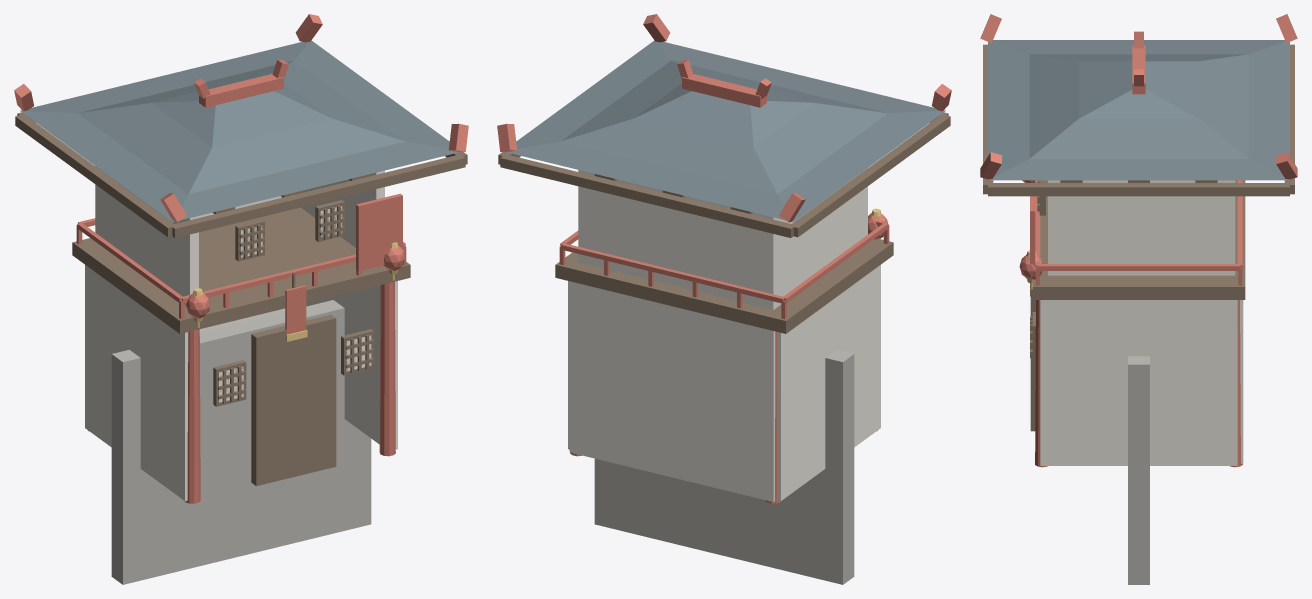
The model's file is SM_Building_Inn.fbx.
3 renders of one model, left to right at view 1: azimuth 30°, elevation 25°; view 2: azimuth 150°, elevation 25°; view 3: azimuth 270°, elevation 25°, orthographic.
Parts seen in each view (by area): view 1: Inn; view 2: Inn; view 3: Inn.
Part boxes in pixels (x1,y1,x2,y2): Inn: (14, 14, 468, 584); Inn: (497, 14, 951, 584); Inn: (980, 14, 1297, 584).
Bounding box in the file's own units: 3.44 × 5.17 × 3.13.
